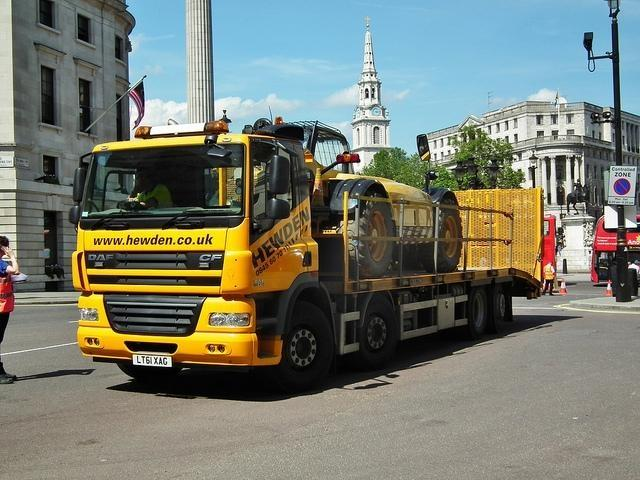bus: (593, 212, 639, 282), (542, 214, 557, 278)
truck: (68, 120, 546, 391)
